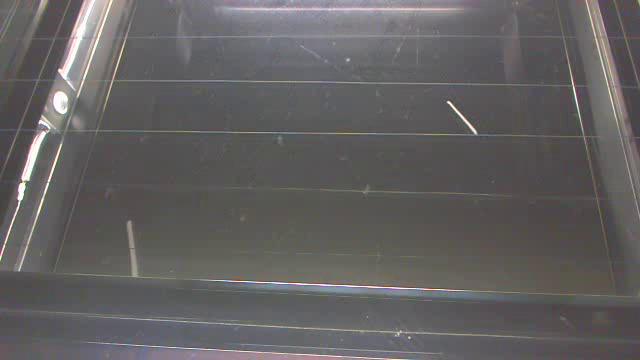alpha: (446, 99, 479, 136), (125, 220, 142, 276)
